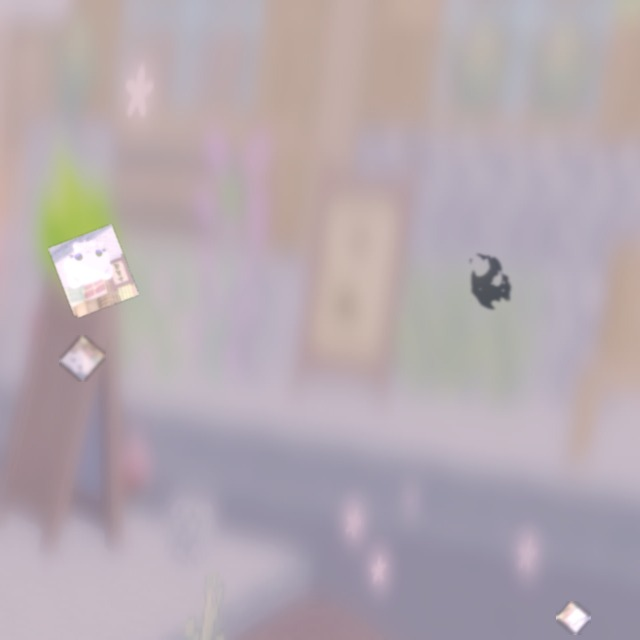urso_branco: (48, 224, 139, 319), (59, 335, 106, 382), (556, 601, 591, 635)
urso_preto: (458, 242, 521, 323)
